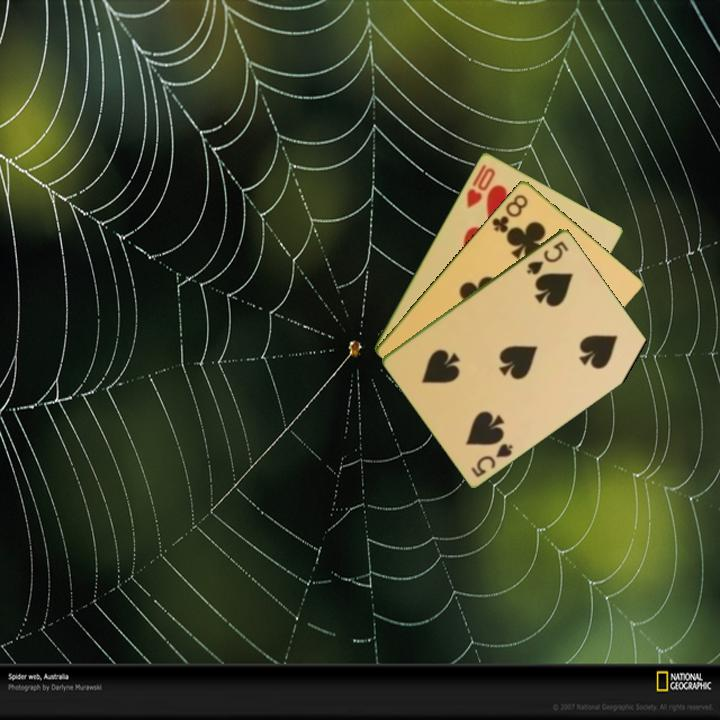10h: (463, 164, 498, 211)
5s: (467, 439, 516, 480), (523, 237, 571, 277)
8c: (488, 191, 531, 236)
